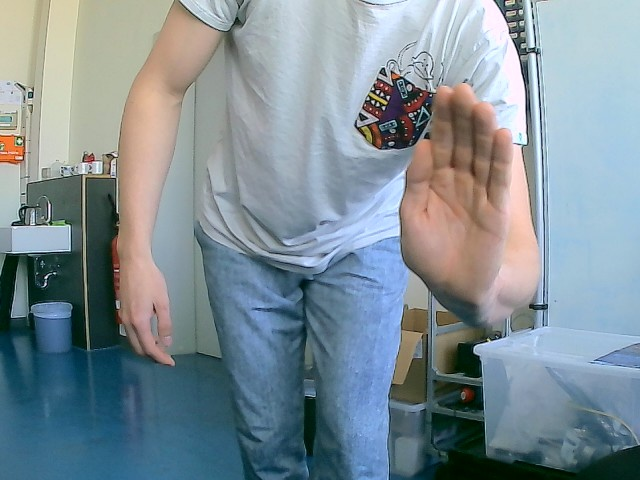no_gesture: (114, 260, 181, 366)
stop: (398, 82, 515, 311)
